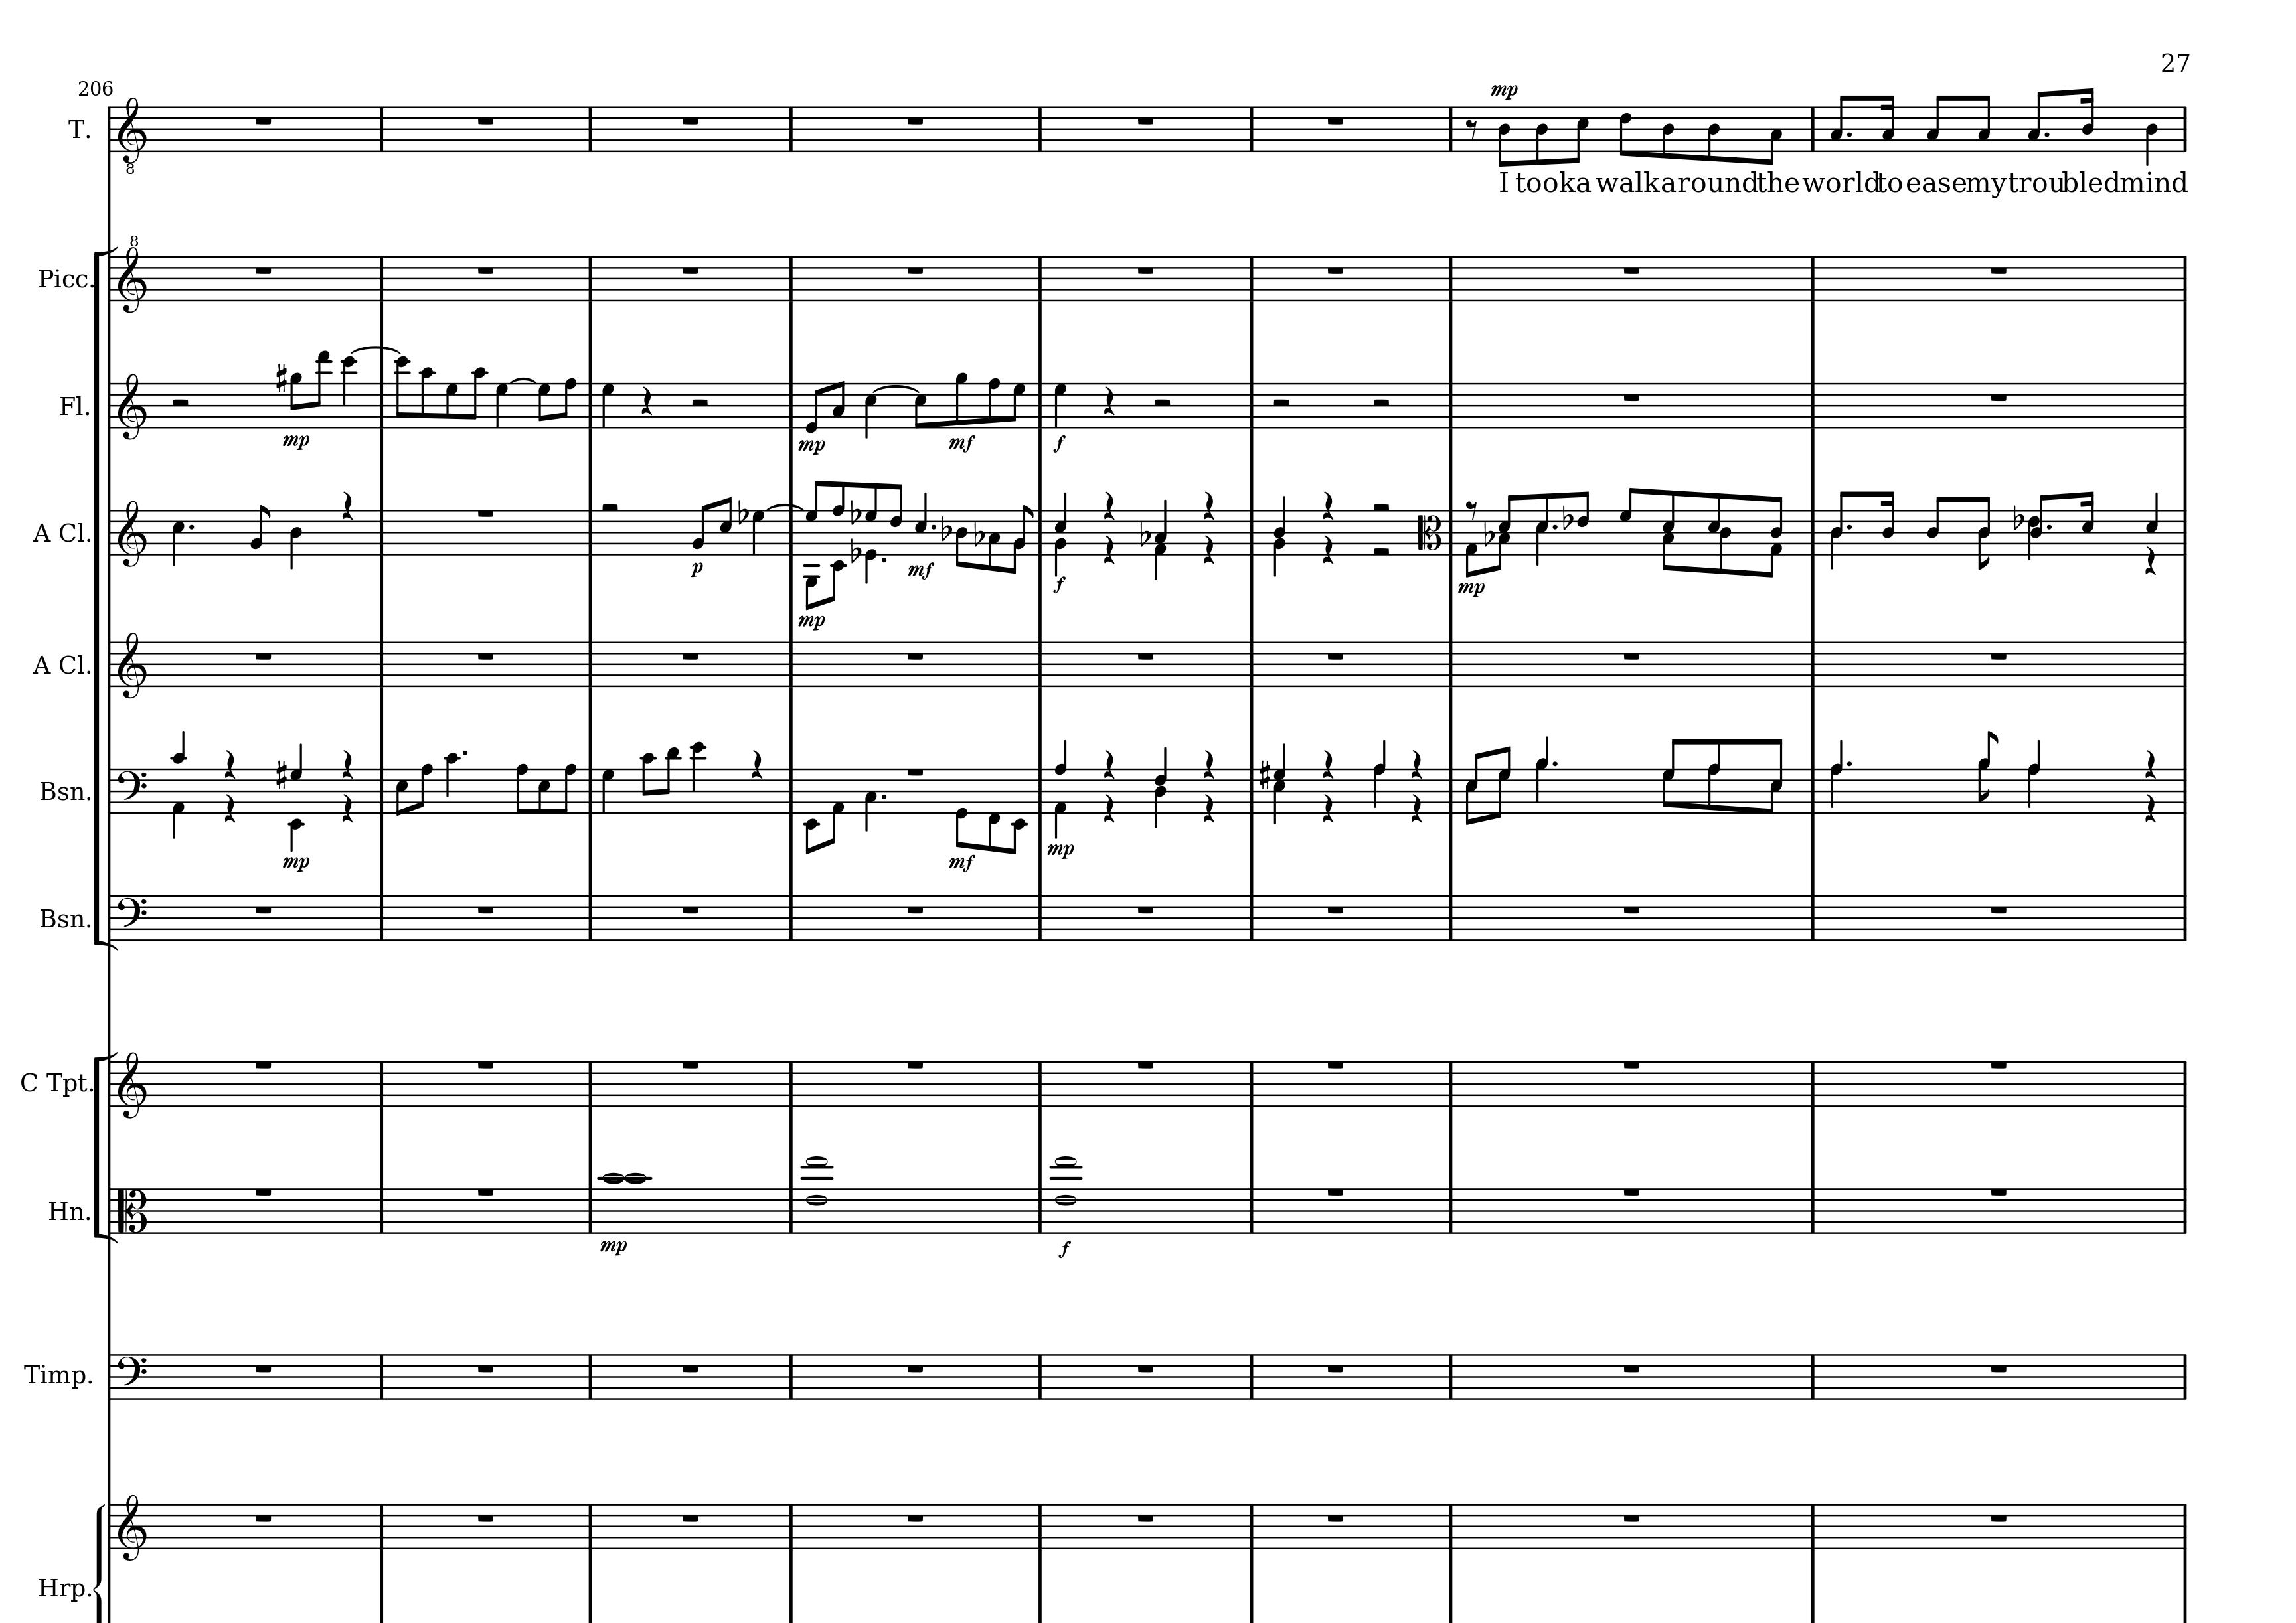0: (90, 77, 102, 98)
16_3: (1880, 93, 1895, 153)
16_4: (1880, 490, 1895, 555)
16_5: (2080, 490, 2094, 555)
1_6_13: (1049, 1154, 1086, 1235), (799, 1156, 836, 1235)
2: (2159, 51, 2177, 72), (76, 77, 90, 97)
4_-2_7: (286, 745, 304, 854)
4_1: (827, 766, 845, 845)
4_10: (443, 752, 460, 815)
4_12: (689, 741, 708, 815), (341, 355, 358, 430)
4_1_10: (169, 731, 188, 836)
4_1_3: (1154, 499, 1168, 581)
4_1_8: (1054, 739, 1070, 840)
4_2_4: (1274, 495, 1288, 576)
4_2_5: (1052, 492, 1066, 578)
4_3: (863, 766, 878, 833)
4_4: (288, 508, 302, 571), (2145, 104, 2157, 165)
4_4_6: (1154, 748, 1168, 831)
4_5: (863, 381, 878, 441), (913, 490, 928, 555), (2145, 490, 2159, 552), (170, 508, 184, 566)
4_5_7: (1274, 743, 1286, 827)
4_7: (494, 381, 509, 430), (1052, 381, 1068, 429), (601, 381, 615, 430), (750, 508, 764, 557), (601, 768, 615, 815)
6: (100, 77, 114, 97)
7: (2177, 49, 2191, 72)
8_-1: (987, 766, 1001, 850)
8_-2: (1007, 766, 1028, 855), (803, 766, 820, 852)
8_-2_8: (826, 480, 845, 604)
8_0: (956, 766, 968, 848), (805, 381, 822, 432)
8_10: (467, 365, 488, 429), (418, 365, 436, 429), (639, 750, 655, 815)
8_11: (661, 745, 682, 815)
8_12: (393, 355, 411, 430)
8_13: (313, 348, 332, 429)
8_2: (249, 502, 271, 555), (690, 502, 710, 557)
8_3: (1762, 104, 1783, 165), (2027, 88, 2047, 153), (1829, 93, 1848, 153), (1925, 93, 1945, 153), (986, 508, 1001, 571), (1976, 93, 1990, 153), (831, 378, 845, 429)
8_3_5: (1662, 490, 1676, 569)
8_4: (1925, 495, 1945, 555), (2080, 84, 2096, 153), (1534, 104, 1548, 167), (1497, 105, 1511, 167), (1706, 105, 1720, 163), (954, 509, 968, 567), (1660, 105, 1674, 160)
8_5: (1570, 104, 1588, 163), (718, 495, 733, 555), (536, 766, 552, 815), (913, 381, 928, 430), (395, 768, 408, 817)
8_6: (1576, 488, 1592, 555), (889, 481, 903, 555), (1618, 104, 1632, 158)
8_7: (1618, 485, 1637, 557), (864, 481, 878, 552), (1008, 381, 1026, 429), (536, 381, 552, 429), (444, 381, 458, 429)
8_8: (557, 761, 576, 815), (415, 762, 434, 815), (559, 376, 576, 429), (987, 376, 1001, 430), (515, 762, 529, 815)
8_9: (288, 371, 302, 429), (954, 371, 968, 429)
Bracke: (93, 244, 123, 956), (90, 1052, 118, 1245)
Bsn: (39, 778, 84, 806), (39, 905, 84, 933)
Cclef: (114, 1187, 148, 1233), (1416, 509, 1442, 555)
Cl: (58, 518, 86, 548), (58, 650, 86, 680)
Fclef: (118, 766, 148, 815), (118, 894, 148, 943), (118, 1352, 148, 1400)
Fl: (56, 392, 84, 418)
Flat: (2011, 502, 2024, 532), (848, 495, 861, 523), (971, 518, 984, 545), (1138, 520, 1151, 546), (736, 497, 747, 525), (848, 537, 859, 564), (940, 515, 950, 541), (1483, 520, 1493, 546), (1562, 502, 1572, 529)
Gclef: (118, 1050, 148, 1121), (118, 372, 148, 441), (118, 499, 148, 567), (118, 631, 148, 699), (118, 1491, 148, 1560)
High_Gclef: (118, 232, 146, 314)
Hn: (46, 1196, 84, 1223)
Hrp: (37, 1572, 86, 1604)
Lower_Gclef: (116, 95, 148, 174)
Picc: (33, 267, 88, 295)
Rests1: (903, 764, 928, 778), (1620, 263, 1643, 278), (1620, 390, 1643, 404), (1987, 390, 2010, 404), (1325, 1057, 1347, 1071), (1987, 1057, 2010, 1071), (474, 1184, 497, 1198), (1325, 1184, 1347, 1198), (1987, 1184, 2010, 1198), (1987, 1361, 2010, 1375), (253, 903, 274, 917), (253, 1057, 274, 1071), (680, 1057, 701, 1071), (905, 1057, 926, 1071), (1621, 1057, 1643, 1071), (253, 1184, 274, 1198), (1621, 1184, 1643, 1198), (253, 1361, 274, 1375), (253, 1511, 274, 1525), (1621, 1511, 1643, 1525), (1989, 1511, 2010, 1525), (474, 114, 497, 126), (1325, 114, 1347, 126), (474, 263, 497, 276), (1135, 263, 1158, 276), (1325, 263, 1347, 276), (1987, 263, 2010, 276), (474, 506, 497, 518), (1325, 650, 1347, 662), (1620, 650, 1643, 662), (1325, 903, 1347, 915), (1620, 903, 1643, 915), (1987, 903, 2010, 915), (474, 1057, 497, 1070), (474, 1361, 497, 1374), (903, 1361, 926, 1374), (1325, 1361, 1347, 1374), (474, 1512, 497, 1525), (1135, 1512, 1158, 1525), (1325, 1512, 1347, 1525), (253, 114, 274, 126), (680, 114, 701, 126), (905, 114, 926, 126), (1135, 114, 1156, 126), (253, 263, 274, 276), (680, 263, 701, 276), (905, 263, 926, 276), (253, 650, 274, 662), (476, 650, 497, 662), (680, 650, 701, 662), (905, 650, 926, 662), (1135, 650, 1156, 662), (1989, 650, 2010, 662), (476, 903, 497, 915), (680, 903, 701, 915), (905, 903, 926, 915), (1135, 903, 1156, 915), (1135, 1057, 1156, 1070), (680, 1361, 701, 1374), (1135, 1361, 1156, 1374), (1621, 1361, 1643, 1374), (680, 1512, 701, 1525), (905, 1512, 926, 1525)
Rests2: (689, 395, 711, 411), (599, 499, 622, 515), (1268, 395, 1293, 409), (1370, 499, 1393, 513), (1151, 395, 1172, 409), (1370, 545, 1393, 557), (1370, 397, 1391, 409), (169, 397, 191, 408)
Rests4: (638, 385, 653, 418), (221, 792, 237, 824), (2143, 545, 2157, 578), (1101, 385, 1116, 416), (341, 490, 355, 522), (1101, 534, 1116, 566), (1202, 534, 1216, 566), (1321, 490, 1335, 522), (223, 748, 237, 780), (341, 792, 355, 824), (750, 748, 764, 780), (1101, 748, 1116, 780), (1101, 792, 1116, 824), (1202, 748, 1216, 780), (1202, 792, 1216, 824), (1321, 748, 1335, 780), (1321, 792, 1335, 824), (1409, 748, 1423, 780), (1409, 792, 1423, 824), (2143, 748, 2157, 780), (2143, 792, 2157, 824), (1101, 490, 1116, 520), (1202, 490, 1216, 520), (1321, 534, 1333, 566), (341, 748, 353, 780)
Rests8: (1463, 118, 1479, 139), (1463, 499, 1477, 518)
Sharp: (274, 757, 288, 790), (1258, 757, 1272, 790), (274, 362, 286, 393)
Single_barline: (581, 641, 599, 685), (374, 508, 390, 555), (1244, 508, 1260, 555), (1244, 255, 1260, 300), (374, 381, 390, 427), (783, 381, 799, 427), (1244, 381, 1260, 427), (1444, 383, 1460, 429), (583, 509, 599, 555), (583, 768, 599, 813), (1244, 768, 1260, 813), (1244, 894, 1260, 940), (581, 1187, 597, 1233), (2177, 1187, 2192, 1233), (2177, 1354, 2192, 1400), (2177, 1504, 2192, 1549), (1804, 383, 1820, 427), (1244, 641, 1260, 685), (1442, 641, 1458, 685), (783, 641, 799, 685), (1244, 1061, 1260, 1105), (1033, 381, 1047, 429), (1033, 508, 1047, 555), (1806, 508, 1820, 555), (1444, 894, 1458, 941), (2177, 894, 2191, 941), (374, 105, 388, 151), (583, 105, 597, 151), (783, 105, 798, 151), (2177, 105, 2191, 151), (1033, 105, 1047, 151), (1245, 105, 1260, 151), (1444, 105, 1458, 151), (1806, 105, 1820, 151), (374, 255, 388, 300), (583, 255, 597, 300), (783, 255, 798, 300), (1033, 255, 1047, 300), (1444, 255, 1458, 300), (1806, 255, 1820, 300), (2177, 255, 2191, 300), (583, 381, 597, 427), (2177, 381, 2191, 427), (1444, 509, 1458, 555), (2177, 509, 2191, 555), (374, 768, 388, 813), (783, 768, 798, 813), (1033, 768, 1047, 813), (1444, 768, 1458, 813), (1806, 768, 1820, 813), (2177, 768, 2191, 813), (583, 894, 597, 940), (783, 894, 798, 940), (1033, 894, 1047, 940), (374, 894, 388, 940), (1806, 894, 1820, 940), (104, 1061, 118, 1107), (374, 1061, 388, 1107), (583, 1061, 597, 1107), (783, 1061, 798, 1107), (1444, 1061, 1458, 1107), (374, 1187, 388, 1233), (783, 1187, 798, 1233), (1033, 1187, 1047, 1233), (1244, 1187, 1258, 1233), (1444, 1187, 1458, 1233), (1806, 1187, 1820, 1233), (583, 1504, 597, 1549), (783, 1504, 798, 1549), (1033, 1504, 1047, 1549), (1444, 1504, 1458, 1549), (1806, 1504, 1820, 1549), (1245, 1504, 1260, 1549), (783, 511, 798, 555), (1033, 641, 1047, 685), (1806, 641, 1820, 685), (2177, 641, 2191, 685), (374, 641, 388, 685), (1033, 1061, 1047, 1105), (1806, 1061, 1820, 1105), (2177, 1061, 2191, 1105), (374, 1354, 388, 1398), (583, 1354, 597, 1398), (783, 1354, 798, 1398), (1033, 1354, 1047, 1398), (1245, 1354, 1260, 1398), (1444, 1354, 1458, 1398), (1806, 1354, 1820, 1398), (374, 1504, 388, 1547), (104, 105, 116, 153), (104, 508, 116, 555), (104, 1187, 116, 1235), (104, 1502, 116, 1549), (105, 255, 118, 300), (104, 768, 116, 813), (104, 894, 116, 940), (104, 1354, 116, 1400), (104, 383, 116, 427), (104, 641, 116, 685)
Slur: (351, 344, 401, 355), (871, 383, 921, 393), (766, 501, 801, 509), (509, 376, 538, 385)
Timp: (19, 1360, 86, 1393)
Tpt: (46, 1068, 88, 1096)
dot: (878, 790, 889, 801), (2041, 128, 2050, 139), (1845, 130, 1853, 139), (186, 522, 195, 530), (1845, 522, 1853, 530), (1549, 522, 1558, 530), (460, 748, 469, 757), (1549, 759, 1558, 768), (1845, 759, 1853, 768), (2045, 522, 2052, 530), (878, 555, 887, 562), (929, 522, 936, 529)
f: (1056, 1238, 1072, 1259), (1052, 432, 1066, 453), (1052, 574, 1066, 594)
mf: (947, 432, 977, 455), (947, 852, 977, 873), (906, 560, 935, 581)
mp: (794, 436, 827, 457), (597, 1237, 629, 1258), (1455, 580, 1486, 599), (281, 432, 311, 451), (281, 854, 311, 873), (1045, 840, 1075, 859), (1490, 83, 1520, 100), (796, 613, 826, 631)
p: (687, 560, 704, 580)
